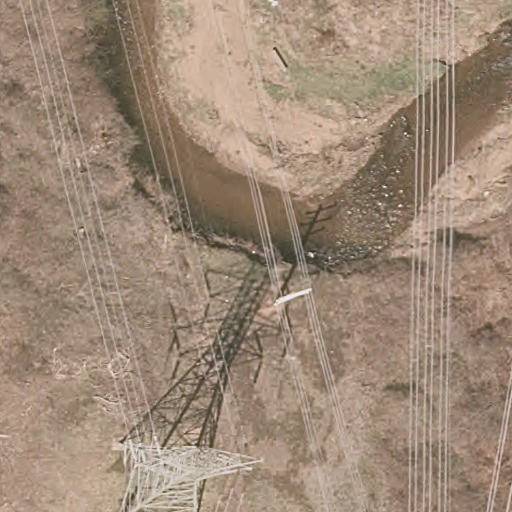TT: (114, 437, 262, 512)
